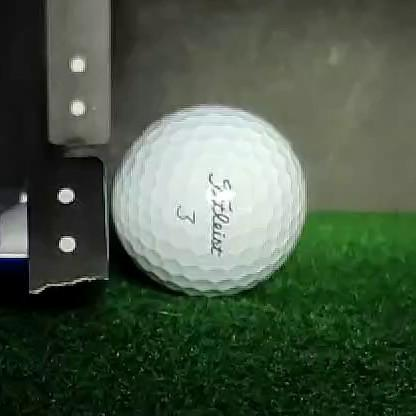golfball: (113, 106, 306, 296)
